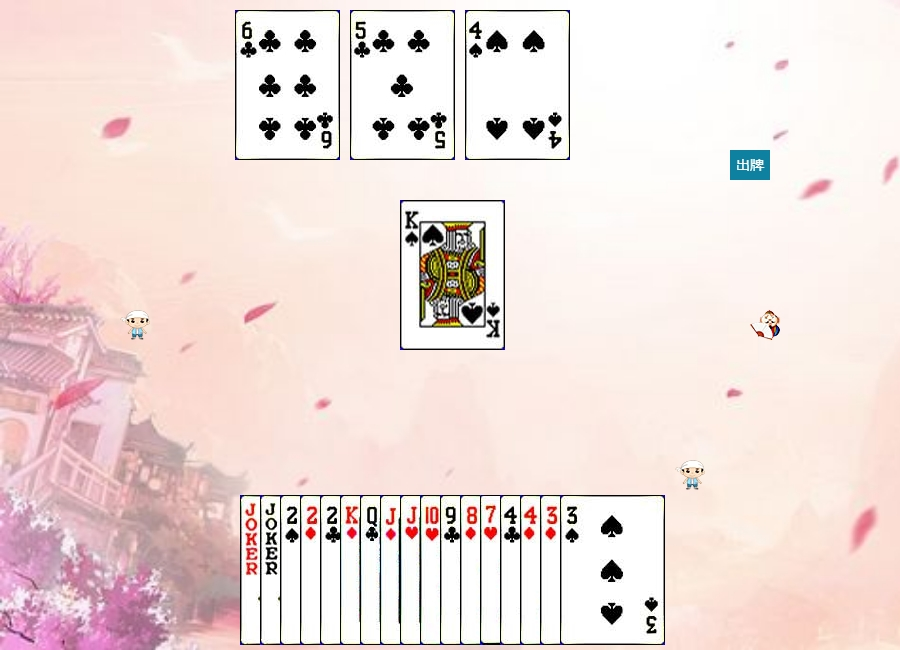10~3: (420, 495, 525, 645)
11~1: (380, 495, 485, 645)
11~3: (400, 495, 505, 645)
12~2: (360, 495, 465, 645)
13~1: (340, 495, 445, 645)
13~4: (400, 200, 505, 350)
15~1: (300, 495, 405, 645)
15~2: (320, 495, 425, 645)
15~4: (280, 495, 385, 645)
17~3: (260, 495, 365, 645)
18~4: (240, 495, 345, 645)
3~1: (540, 495, 645, 645)
3~4: (560, 495, 665, 645)
4~1: (520, 495, 625, 645)
4~2: (500, 495, 605, 645)
4~4: (465, 10, 570, 160)
5~2: (350, 10, 455, 160)
6~2: (235, 10, 340, 160)
7~3: (480, 495, 585, 645)
8~1: (460, 495, 565, 645)
9~2: (440, 495, 545, 645)
